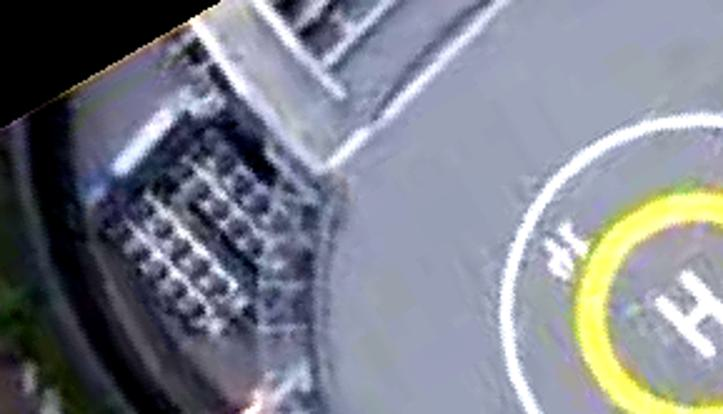Apron: (573, 186, 721, 414)
